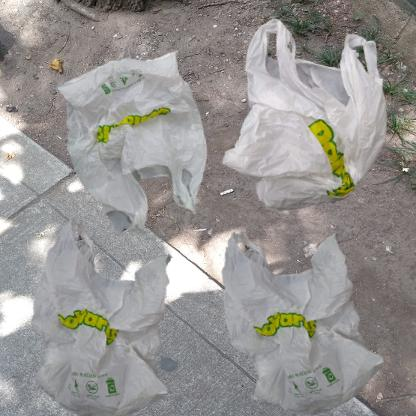bolsa: (10, 10, 277, 284), (213, 10, 416, 246), (10, 213, 213, 416), (213, 213, 395, 416)
